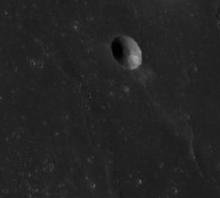crater: (89, 19, 170, 98)
